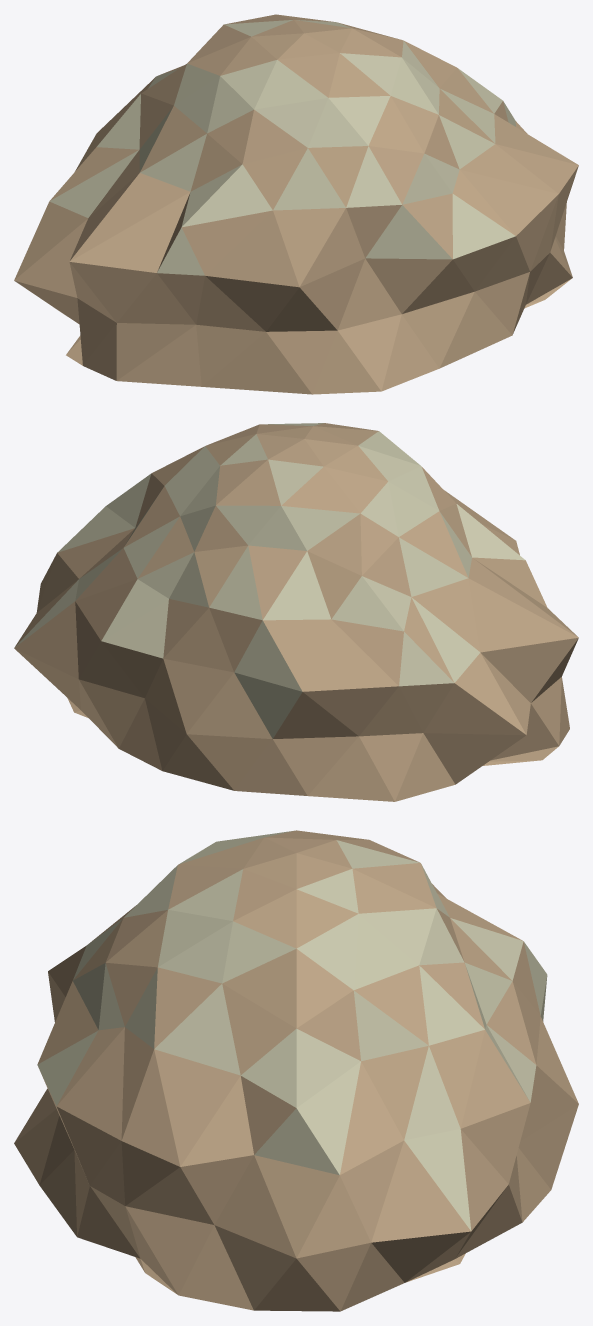
File: rock2.glb
3 views of the same model, one above another, from view 1: azimuth 30°, elevation 25°; view 2: azimuth 150°, elevation 25°; view 3: azimuth 270°, elevation 25° (orthographic). The views are drawn at different scales.
Parts seen in each view (by area): view 1: Sandstone; view 2: Sandstone; view 3: Sandstone.
Part boxes in pixels (x1,y1,x2,y2): Sandstone: [14, 14, 578, 394]; Sandstone: [14, 423, 578, 801]; Sandstone: [14, 830, 578, 1311].
Size of the model in its own units: 2.21 by 1.07 by 1.73.
